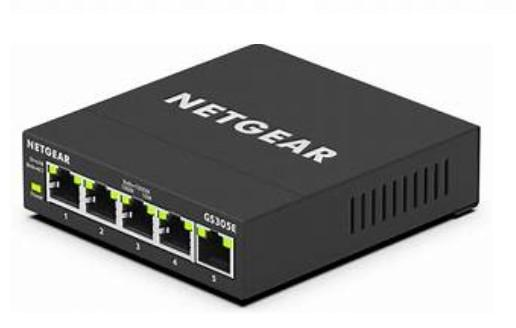NetworkSwitch: (21, 44, 482, 307)
